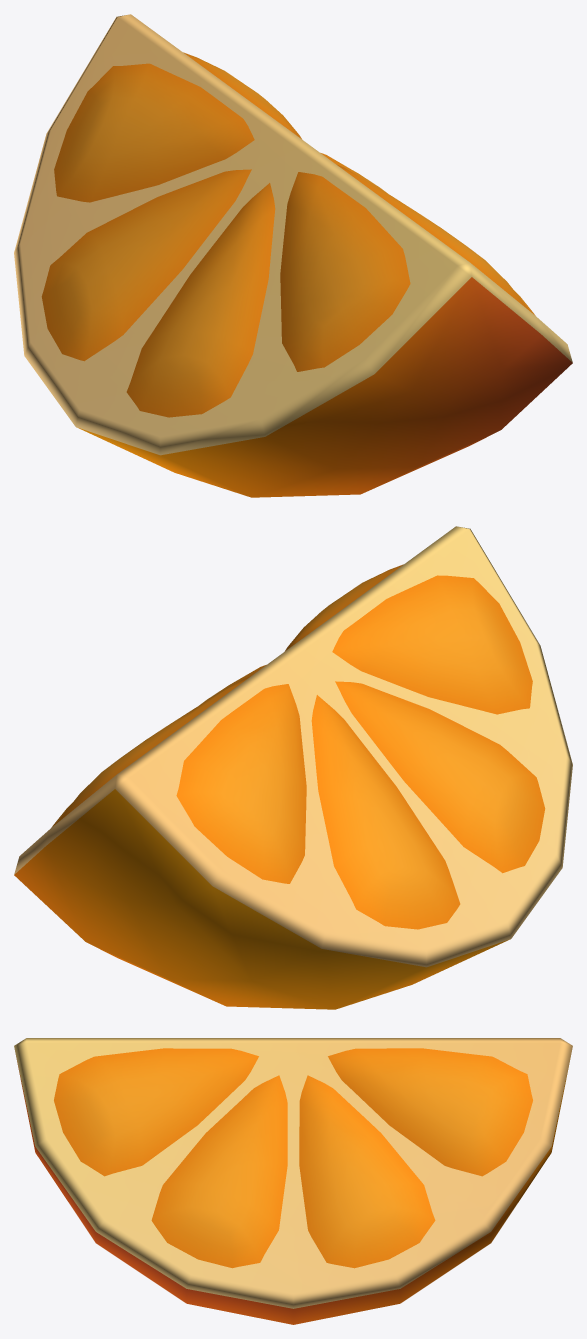
Rendered from orange_003.fbx.
3 views of the same model, one above another, from view 1: azimuth 30°, elevation 25°; view 2: azimuth 150°, elevation 25°; view 3: azimuth 270°, elevation 25° (orthographic). The views are drawn at different scales.
Visible parts, largest first — view 1: orange_003; view 2: orange_003; view 3: orange_003.
Part boxes in pixels (x1,y1,x2,y2): orange_003: (14, 14, 572, 497); orange_003: (14, 526, 572, 1009); orange_003: (14, 1038, 572, 1324).
Bounding box in the file's own units: 7.62 × 10.78 × 5.5.
